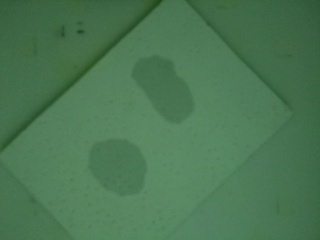Water_detected: (142, 62, 189, 116), (101, 149, 142, 190)
